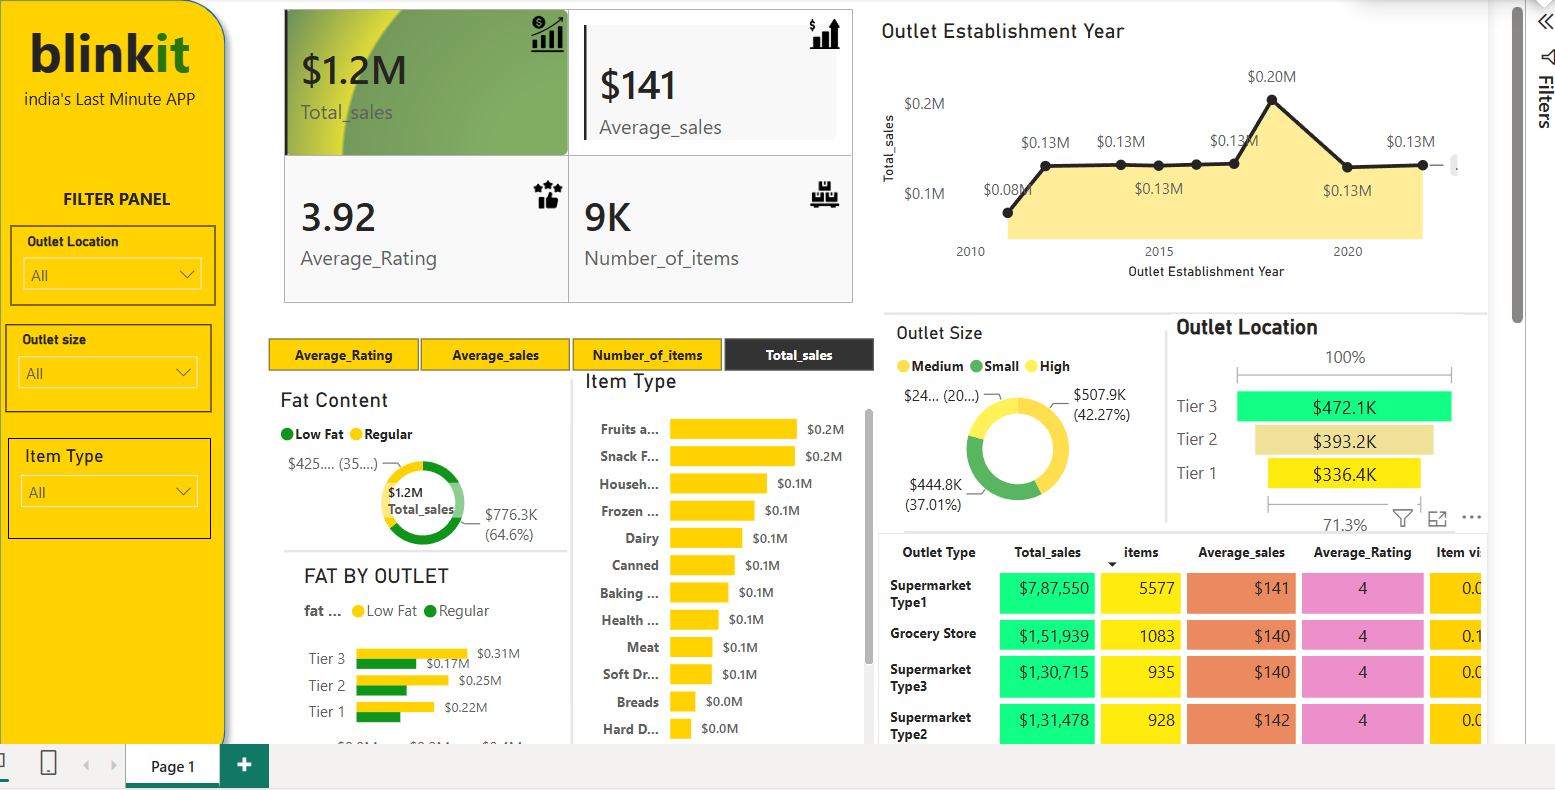

The page's visual inventory and layout, read from the dashboard file:
{"tool":"powerbi","page":{"name":"Page 1","canvas":[1200,1400],"ordinal":0},"visuals":[{"type":"shape","box":[0,0,198.9,637.8],"z":0},{"type":"textbox","box":[14,645,200,627],"z":1000},{"type":"textbox","box":[14.3,16.5,167,71.4],"z":2000},{"type":"cardVisual","fields":{"Data":["BLINKIT DATASET.Total_sales","BLINKIT DATASET.Average_sales","BLINKIT DATASET.Average_Rating","BLINKIT DATASET.Number_of_items"]},"box":[220,0,490,268.9],"z":3000},{"type":"textbox","box":[14.3,73.6,167,29.7],"z":4000},{"type":"image","box":[643.3,24.4,52.2,25.6],"z":5000},{"type":"image","box":[425.6,22.2,44.4,30],"z":6000},{"type":"image","box":[425.6,154.4,44.4,22.2],"z":7000},{"type":"image","box":[656.7,154.4,25.6,22.2],"z":8000},{"type":"shape","box":[714.4,16.7,485.6,571.1],"z":9000},{"type":"slicer","fields":{"Values":["matrics.matrics"]},"box":[198.9,274.4,534.4,38.9],"z":10000},{"type":"donutChart","title":"Fat Content","fields":{"Y":["BLINKIT DATASET.Total_sales"],"Category":["BLINKIT DATASET.Item Fat Content"]},"box":[228.9,318.9,237.8,141.1],"z":11000},{"type":"cardVisual","fields":{"Data":["BLINKIT DATASET.Total_sales"]},"box":[291.1,378.9,115.6,62.2],"z":12000},{"type":"clusteredBarChart","title":"FAT BY OUTLET","fields":{"Y":["BLINKIT DATASET.Total_sales"],"Category":["BLINKIT DATASET.Outlet Location Type"],"Series":["BLINKIT DATASET.Item Fat Content"]},"box":[247.8,460,200,165.6],"z":13000},{"type":"barChart","title":" Item Type","fields":{"Y":["BLINKIT DATASET.Total_sales"],"Category":["BLINKIT DATASET.Item Type"]},"box":[473.3,304.4,241.1,333.3],"z":14000},{"type":"shape","box":[236.7,403.3,227.8,94.4],"z":15000},{"type":"shape","box":[216.7,313.3,500,310],"z":16000},{"type":"lineChart","title":"Outlet Establishment Year","fields":{"Y":["BLINKIT DATASET.Total_sales"],"Category":["BLINKIT DATASET.Outlet Establishment Year"]},"box":[710,24.4,471.1,213.3],"z":17000},{"type":"shape","box":[716.7,254.4,483.3,12.2],"z":18000},{"type":"donutChart","title":" Outlet Size","fields":{"Category":["BLINKIT DATASET.Outlet Size"],"Y":["BLINKIT DATASET.Total_sales"]},"box":[722.2,266.7,203.3,161.1],"z":19000},{"type":"funnel","title":"Outlet Location ","fields":{"Category":["BLINKIT DATASET.Outlet Location Type"],"Y":["BLINKIT DATASET.Total_sales"]},"box":[945.6,261.1,235.6,182.2],"z":20000},{"type":"shape","box":[733.3,427.8,441.1,15.6],"z":21000},{"type":"shape","box":[887.8,274.4,108.9,153.3],"z":22000},{"type":"pivotTable","fields":{"Rows":["BLINKIT DATASET.Outlet Type"],"Values":["BLINKIT DATASET.Total_sales","BLINKIT DATASET.Number_of_items","BLINKIT DATASET.Average_sales","BLINKIT DATASET.Average_Rating","Avg(BLINKIT DATASET.Item Visibility)"]},"box":[712.2,435.6,487.8,204.4],"z":23000},{"type":"slicer","fields":{"Values":["BLINKIT DATASET.Outlet Size"]},"box":[14.4,268.9,164.4,71.1],"z":24000},{"type":"slicer","fields":{"Values":["BLINKIT DATASET.Outlet Location Type"]},"box":[17.8,190,164.4,64.4],"z":25000},{"type":"slicer","fields":{"Values":["BLINKIT DATASET.Item Type"]},"box":[15.6,360,163.3,81.1],"z":26000},{"type":"textbox","box":[50,154.4,105.6,35.6],"z":27000}]}

Visuals, with their boxes on the page's 1200x1400 design canvas (x1, y1, x2, y2). These are canvas units, not pixel positions in the 1555x790 screenshot, which may show the page scaled, cropped or inside an application window:
shape: bbox=[0, 0, 199, 638]
textbox: bbox=[14, 645, 214, 1272]
textbox: bbox=[14, 16, 181, 88]
cardVisual - BLINKIT DATASET.Total_sales x BLINKIT DATASET.Average_sales: bbox=[220, 0, 710, 269]
textbox: bbox=[14, 74, 181, 103]
image: bbox=[643, 24, 696, 50]
image: bbox=[426, 22, 470, 52]
image: bbox=[426, 154, 470, 177]
image: bbox=[657, 154, 682, 177]
shape: bbox=[714, 17, 1200, 588]
slicer - matrics.matrics: bbox=[199, 274, 733, 313]
"Fat Content" donutChart: bbox=[229, 319, 467, 460]
cardVisual - BLINKIT DATASET.Total_sales: bbox=[291, 379, 407, 441]
"FAT BY OUTLET" clusteredBarChart: bbox=[248, 460, 448, 626]
" Item Type" barChart: bbox=[473, 304, 714, 638]
shape: bbox=[237, 403, 464, 498]
shape: bbox=[217, 313, 717, 623]
"Outlet Establishment Year" lineChart: bbox=[710, 24, 1181, 238]
shape: bbox=[717, 254, 1200, 267]
" Outlet Size" donutChart: bbox=[722, 267, 926, 428]
"Outlet Location " funnel: bbox=[946, 261, 1181, 443]
shape: bbox=[733, 428, 1174, 443]
shape: bbox=[888, 274, 997, 428]
pivotTable - BLINKIT DATASET.Outlet Type x BLINKIT DATASET.Total_sales: bbox=[712, 436, 1200, 640]
slicer - BLINKIT DATASET.Outlet Size: bbox=[14, 269, 179, 340]
slicer - BLINKIT DATASET.Outlet Location Type: bbox=[18, 190, 182, 254]
slicer - BLINKIT DATASET.Item Type: bbox=[16, 360, 179, 441]
textbox: bbox=[50, 154, 156, 190]
